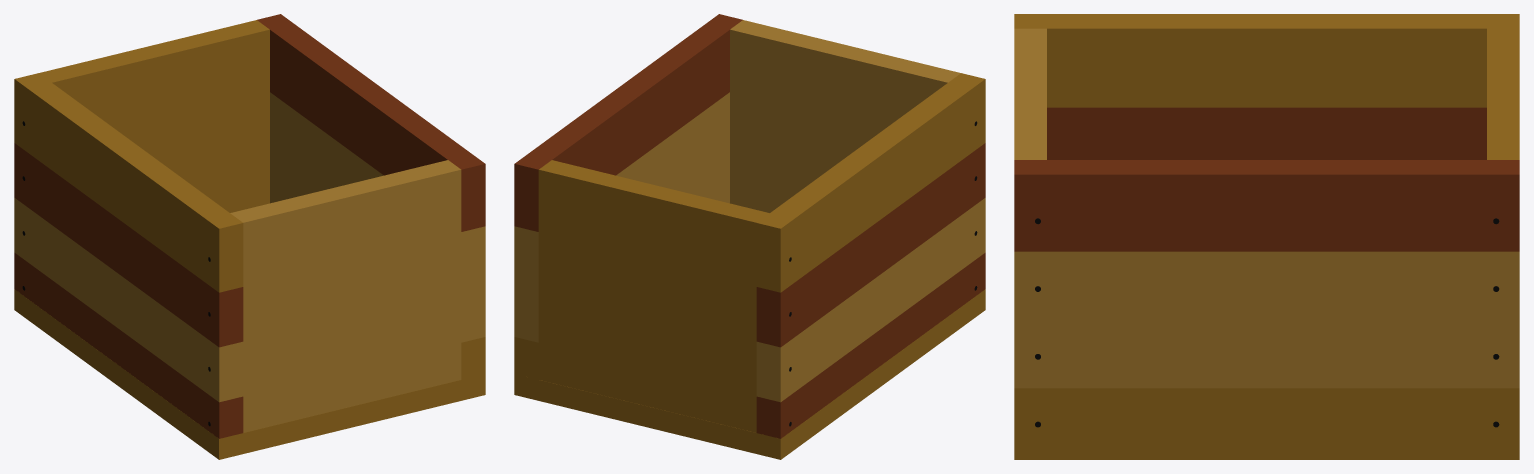
The model's file is Cave_Dynamite_Box.FBX.
3 renders of one model, left to right at view 1: azimuth 30°, elevation 25°; view 2: azimuth 150°, elevation 25°; view 3: azimuth 270°, elevation 25°, orthographic. The views are drawn at different scales.
Parts seen in each view (by area): view 1: Panel_4, Panel_1, Panel_3, Panel_2, Panel_Base; view 2: Panel_4, Panel_2, Panel_3, Panel_1, Panel_Base; view 3: Panel_3, Panel_4, Panel_Base, Panel_2, Panel_1.
Boxes of the visible parts, <box> form: Panel_4: <box>14,73,243,438</box>; Panel_1: <box>230,160,461,432</box>; Panel_3: <box>257,14,485,379</box>; Panel_2: <box>39,20,269,212</box>; Panel_Base: <box>14,289,485,459</box>; Panel_4: <box>756,73,985,438</box>; Panel_2: <box>538,160,769,432</box>; Panel_3: <box>514,14,742,379</box>; Panel_1: <box>730,20,960,212</box>; Panel_Base: <box>514,289,985,459</box>; Panel_3: <box>1014,160,1519,433</box>; Panel_4: <box>1014,14,1519,159</box>; Panel_Base: <box>1014,434,1519,459</box>; Panel_2: <box>1487,28,1519,159</box>; Panel_1: <box>1014,28,1046,159</box>.
Size of the model in its own units: 66.52 by 88.28 by 55.
